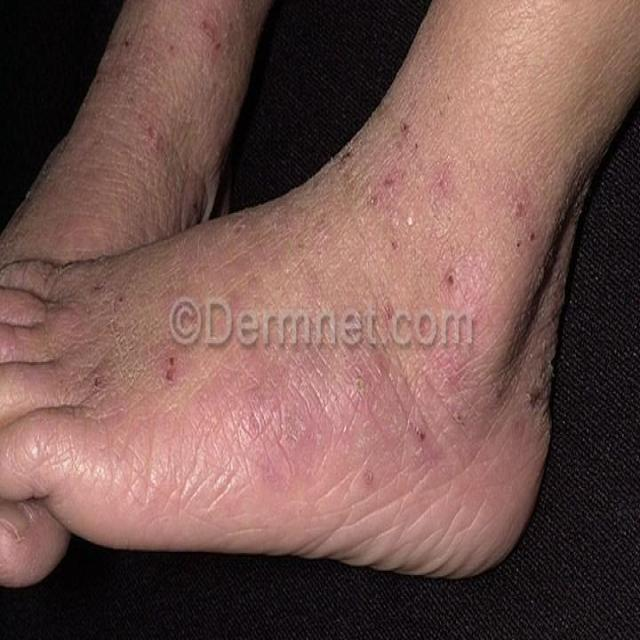liquenificacion 1: (0, 347, 517, 557)
